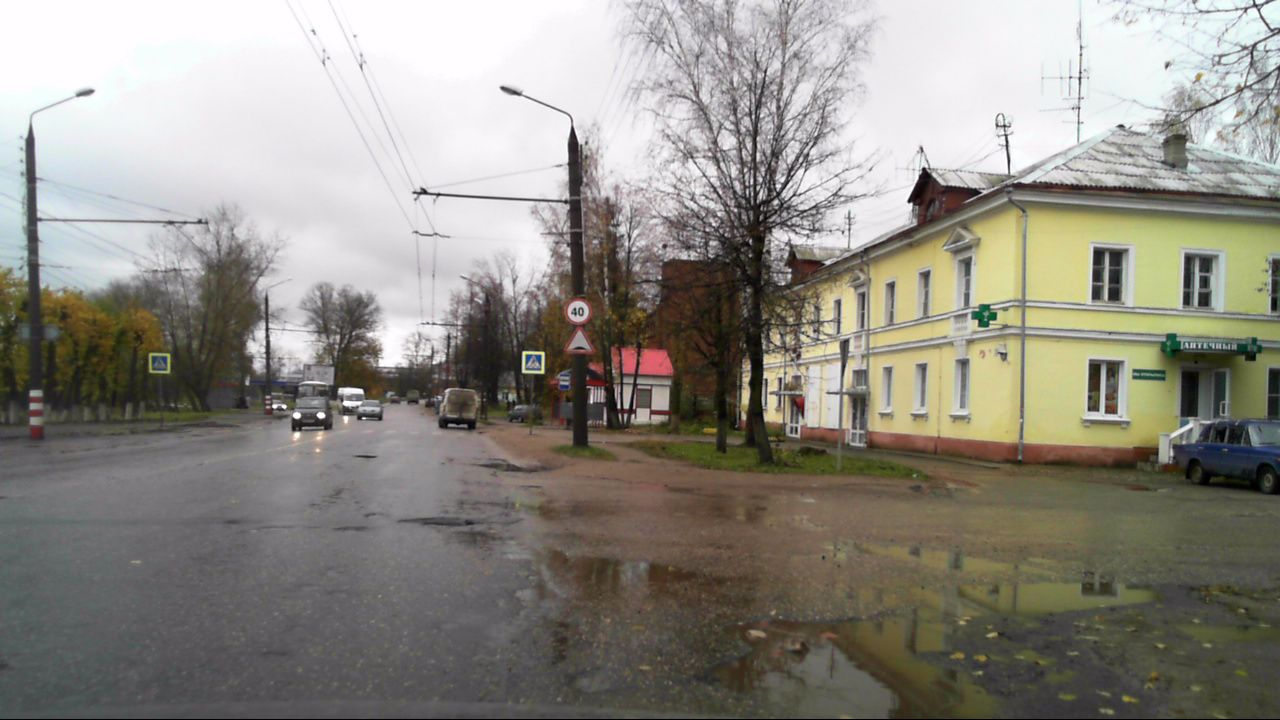speed_warning_40: (564, 296, 591, 325)
